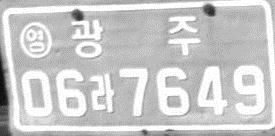0: (20, 69, 53, 118)
4: (196, 65, 227, 114)
6: (154, 66, 190, 116), (55, 69, 87, 117)
7: (118, 67, 149, 116)
9: (232, 64, 265, 115)
광주_D: (70, 15, 201, 60)
라: (88, 73, 115, 112)
영: (18, 22, 52, 59)
